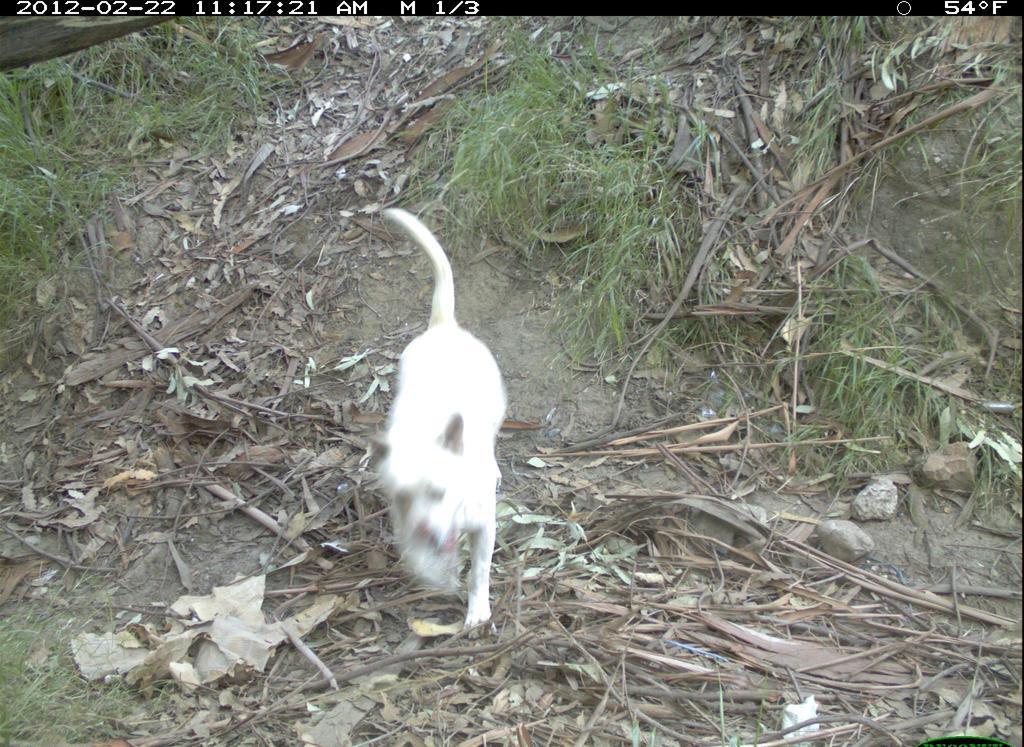dog: (368, 199, 520, 644)
